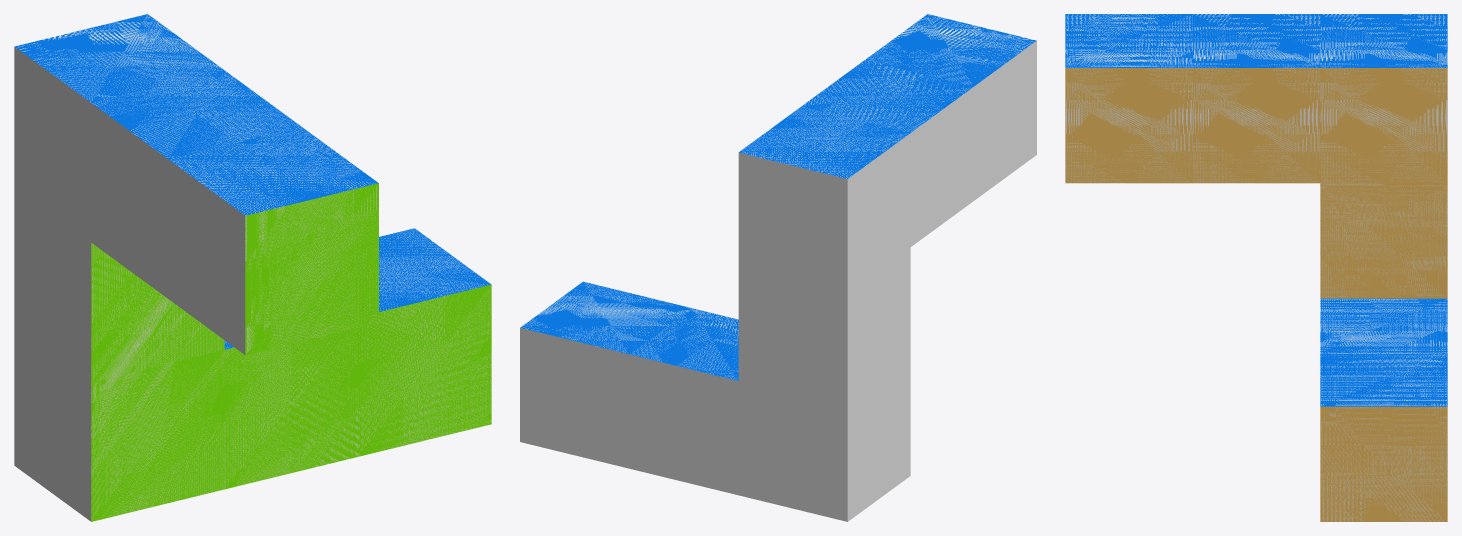
3 renders of one model, left to right at view 1: azimuth 30°, elevation 25°; view 2: azimuth 150°, elevation 25°; view 3: azimuth 270°, elevation 25°, orthographic. The views are drawn at different scales.
Visible parts, largest first — view 1: SketchUp (×5); view 2: SketchUp (×3); view 3: SketchUp (×4).
Part boxes in pixels (box(x1,y1,x2,y2)): SketchUp (×5): box(14, 14, 491, 521); SketchUp (×3): box(520, 14, 1036, 521); SketchUp (×4): box(1065, 14, 1447, 521).
Size of the model in its own units: 47.24 by 47.24 by 47.24.
